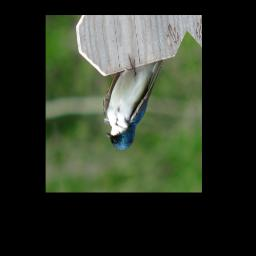Swallow: (96, 46, 173, 155)
